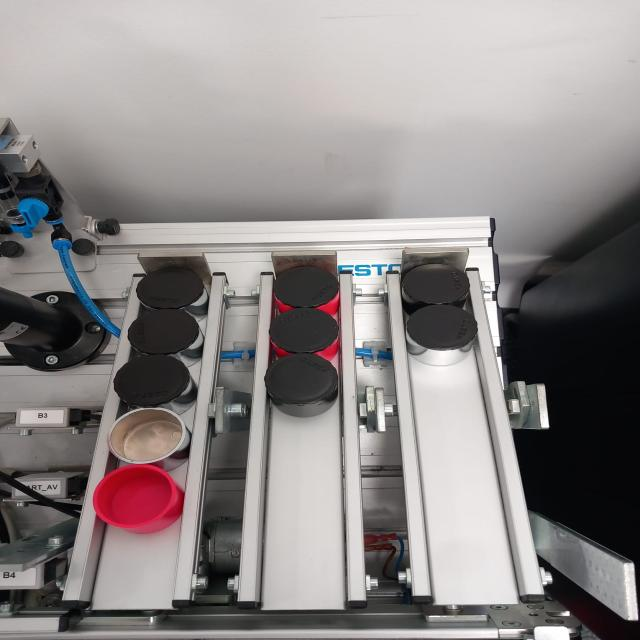NoLid: (87, 459, 183, 537), (106, 407, 198, 468)
Workpiece: (265, 358, 344, 420), (114, 356, 200, 412), (404, 304, 474, 372), (134, 260, 216, 311), (119, 310, 204, 358), (265, 309, 344, 357), (273, 266, 347, 308), (406, 261, 470, 305)
